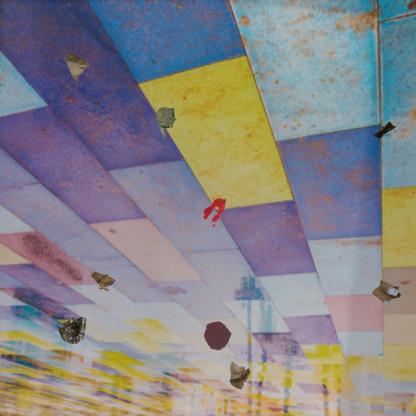dirty: (370, 278, 402, 308), (154, 105, 179, 139), (57, 315, 86, 344), (62, 51, 89, 80), (228, 360, 252, 391), (89, 269, 118, 293), (372, 118, 398, 141)
liquid: (203, 320, 233, 352), (203, 198, 226, 226)
